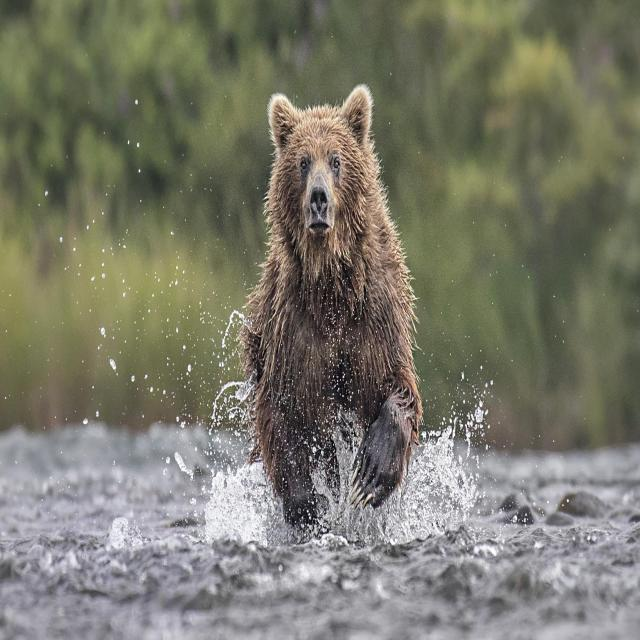Bear: (242, 86, 425, 528)
